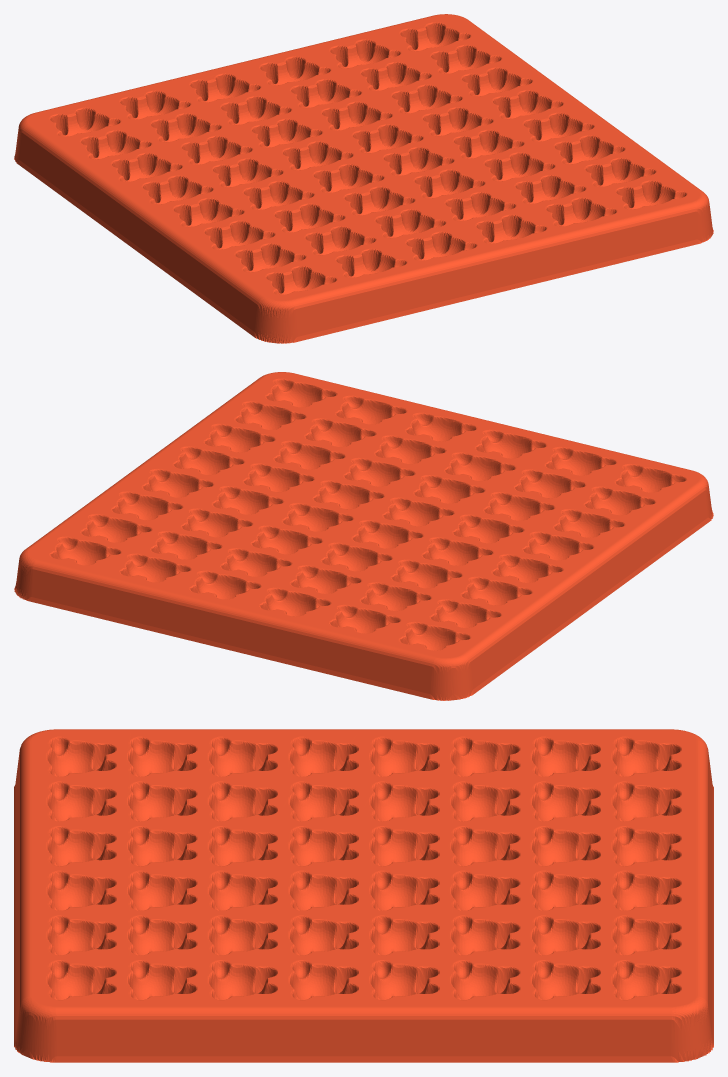
The model's file is mold.glb.
3 views of the same model, one above another, from view 1: azimuth 30°, elevation 25°; view 2: azimuth 150°, elevation 25°; view 3: azimuth 270°, elevation 25° (orthographic). The views are drawn at different scales.
Parts seen in each view (by area): view 1: geometry_0; view 2: geometry_0; view 3: geometry_0.
Boxes of the visible parts, bbox=[...] form: geometry_0: bbox=[14, 14, 713, 343]; geometry_0: bbox=[14, 372, 713, 700]; geometry_0: bbox=[14, 729, 713, 1062].
Size of the model in its own units: 0.1443 by 0.0113 by 0.1468.
